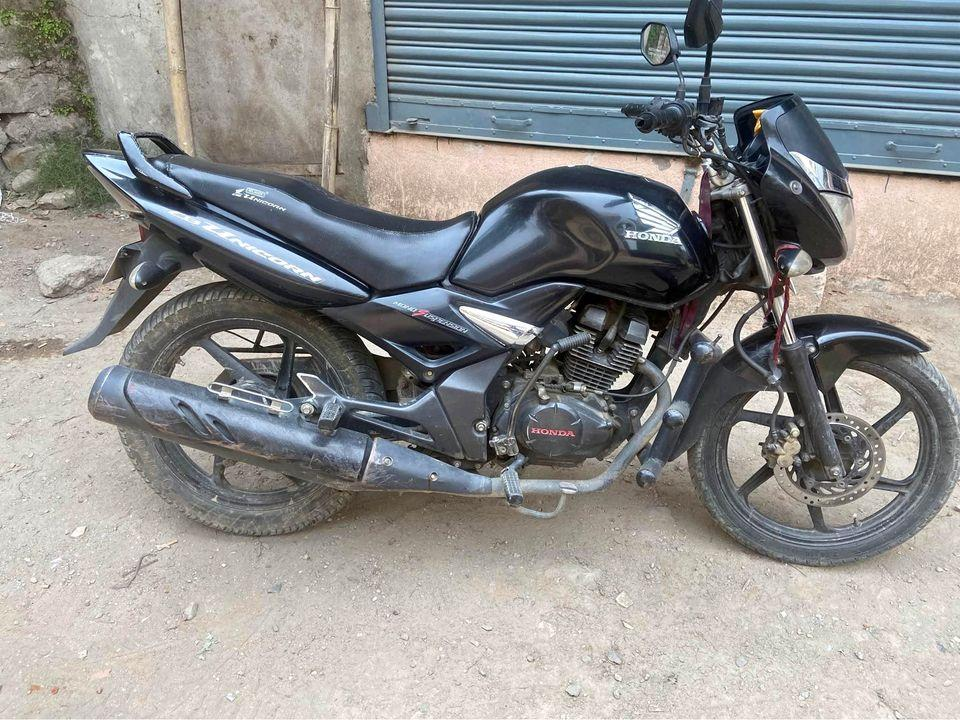bike: (63, 0, 960, 582)
